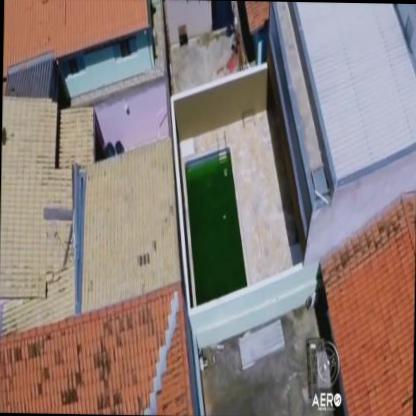agua: (194, 158, 234, 294)
